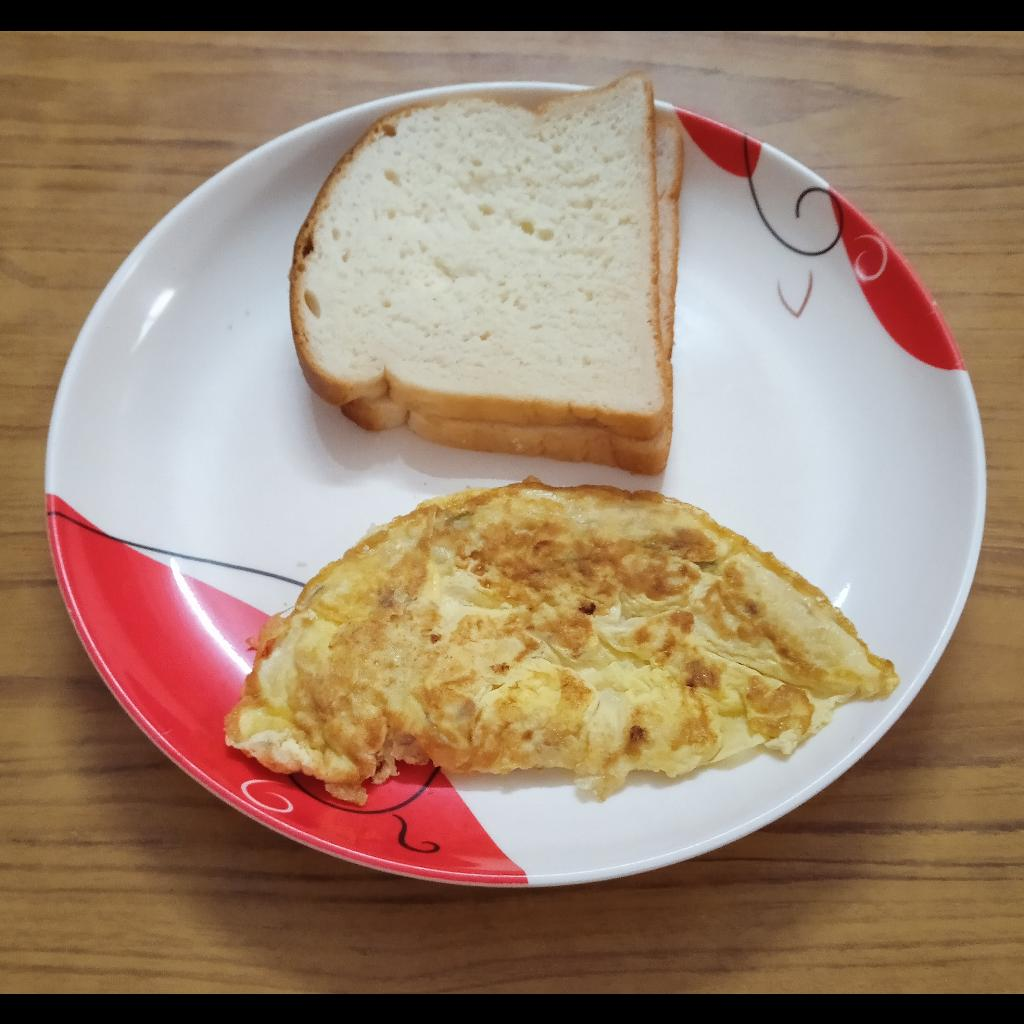bread: (289, 70, 685, 476)
egg-poached: (223, 483, 901, 803)
